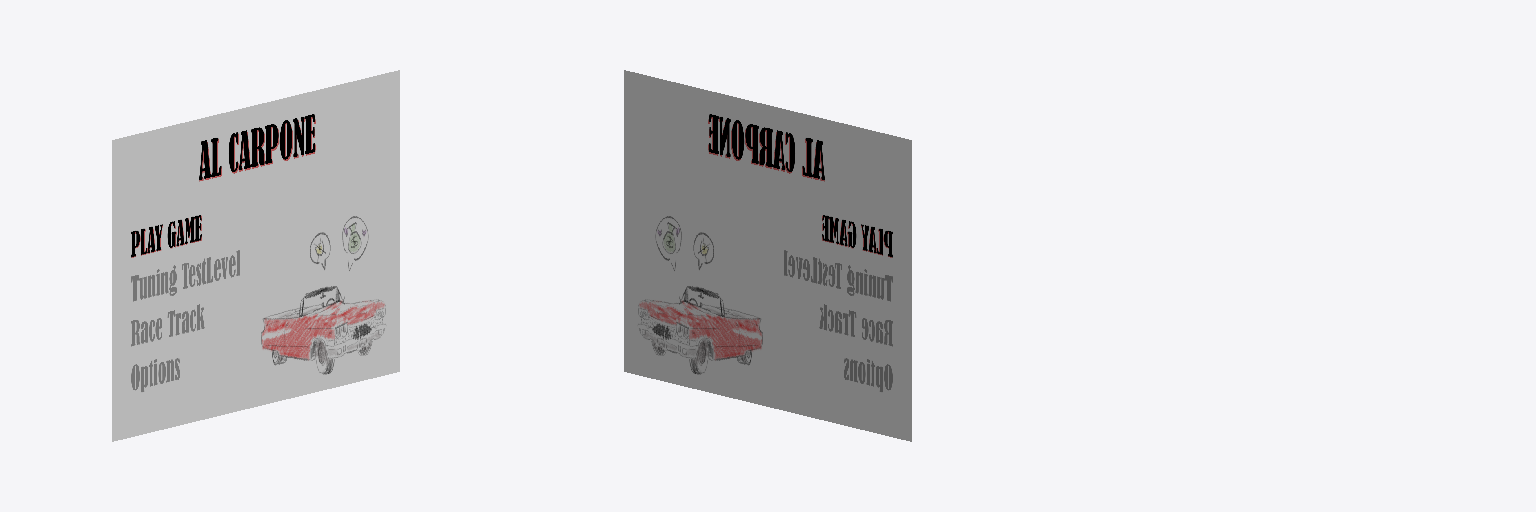
3 views of the same model, side by side, from view 1: azimuth 30°, elevation 25°; view 2: azimuth 150°, elevation 25°; view 3: azimuth 270°, elevation 25° (orthographic).
Parts seen in each view (by area): view 1: Plane; view 2: Plane; view 3: none.
Boxes of the visible parts, box(x1,y1,x2,y2) form: Plane: box(112, 70, 399, 441); Plane: box(624, 70, 911, 441).
Size of the model in its own units: 2 by 2 by 0.
1 materials, 1 textured.